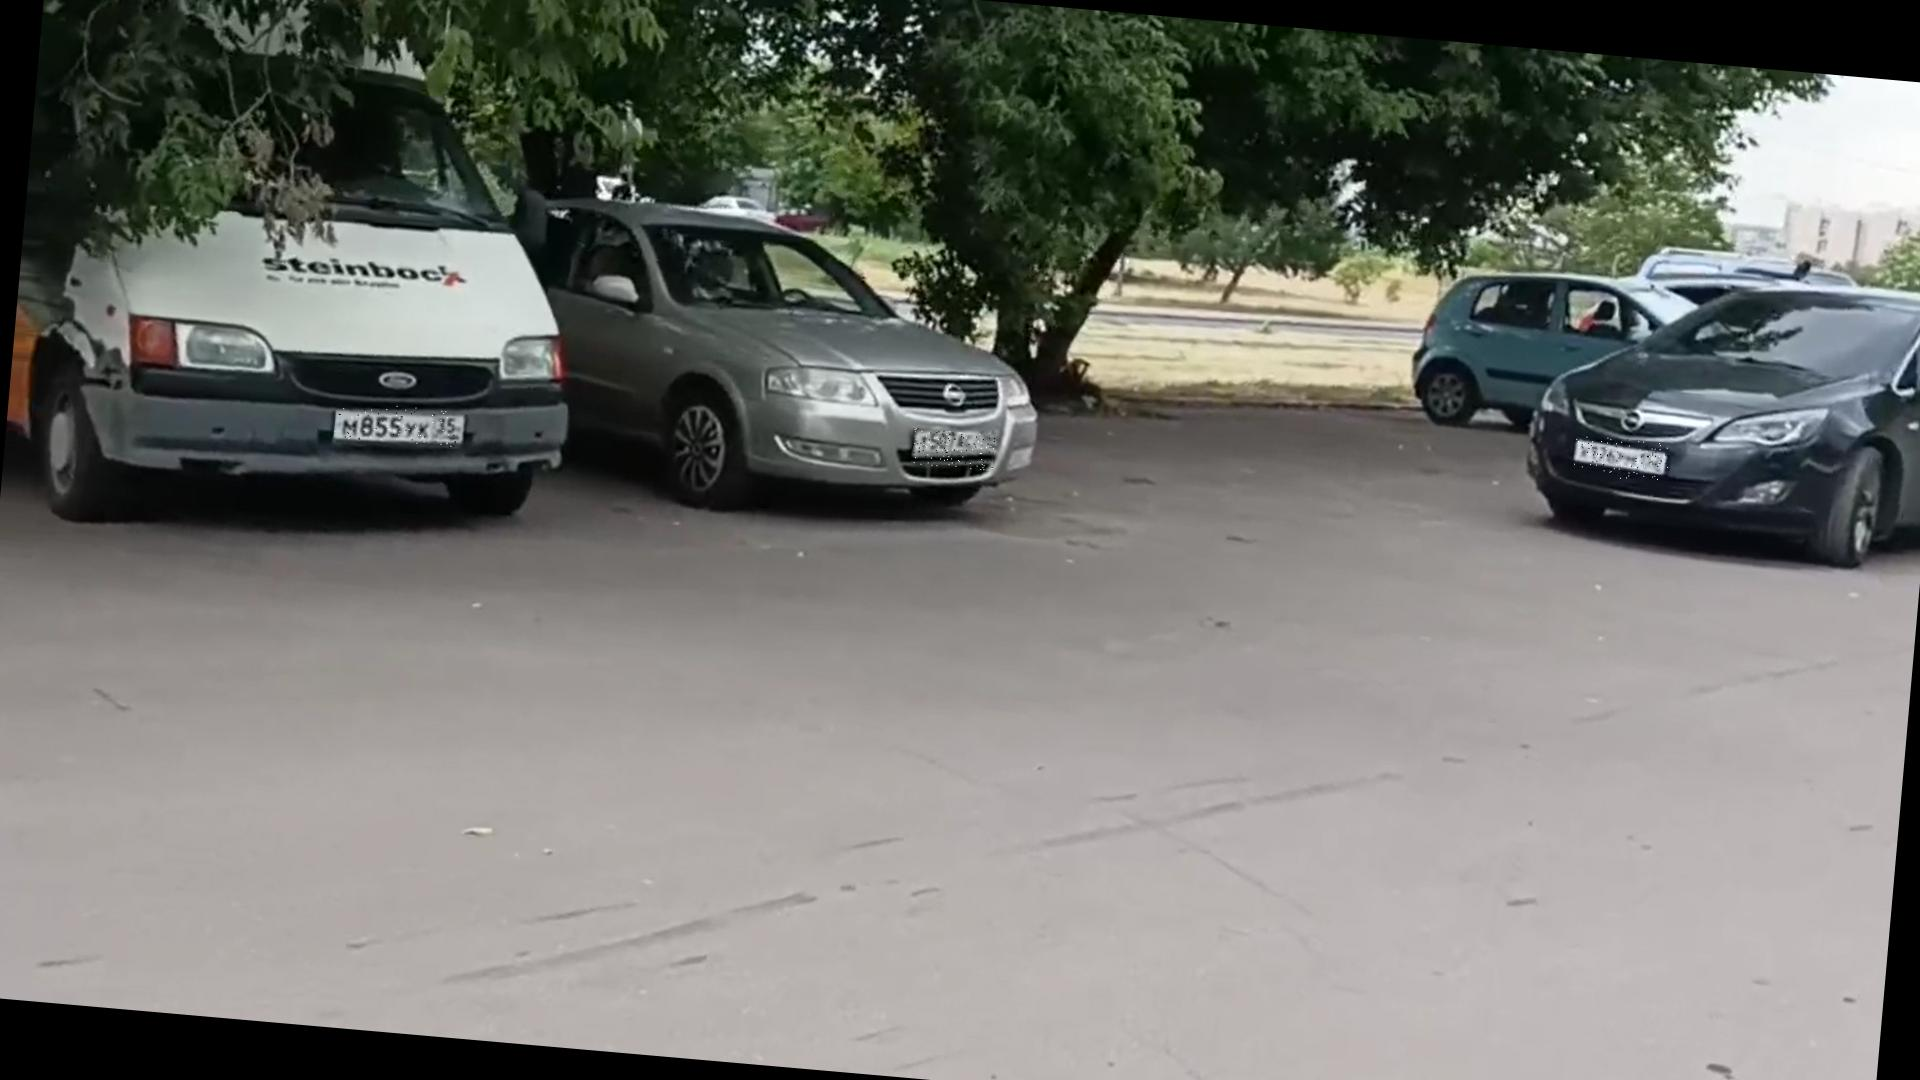plate: (336, 401, 461, 449), (1574, 437, 1672, 485), (912, 430, 997, 473)
